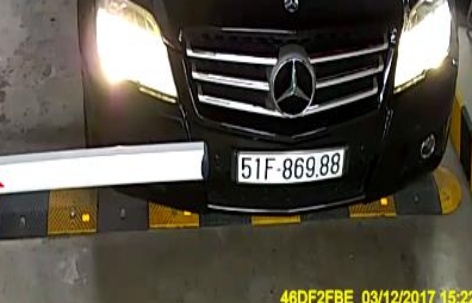plate: (232, 142, 350, 184)
